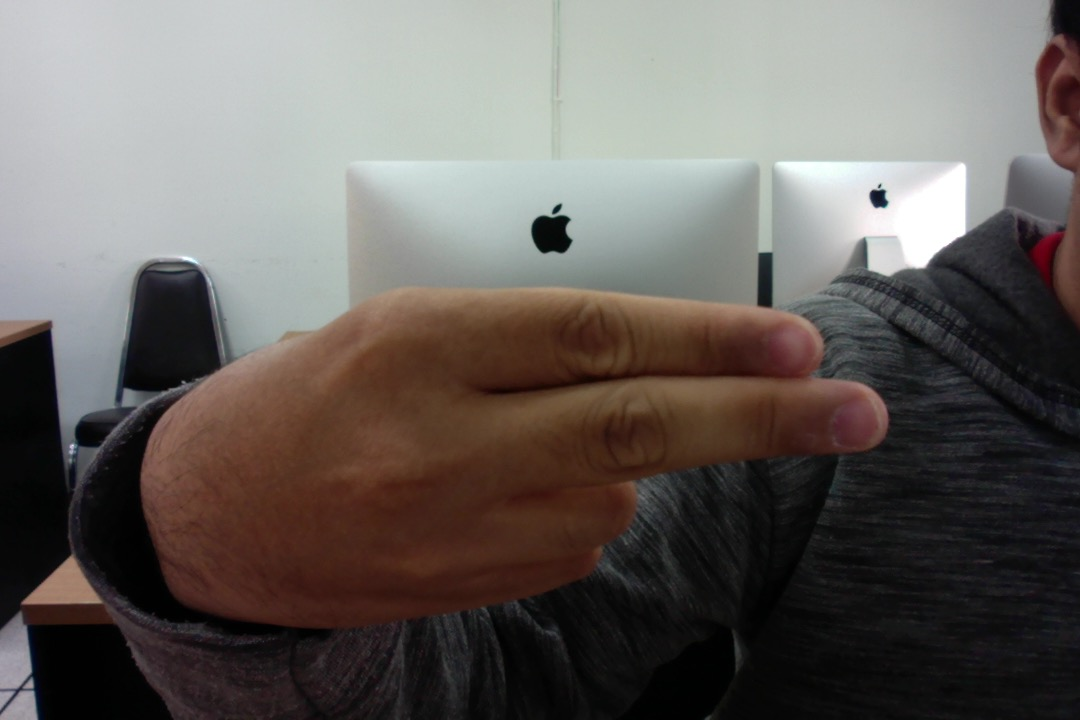hor: (121, 282, 907, 640)
